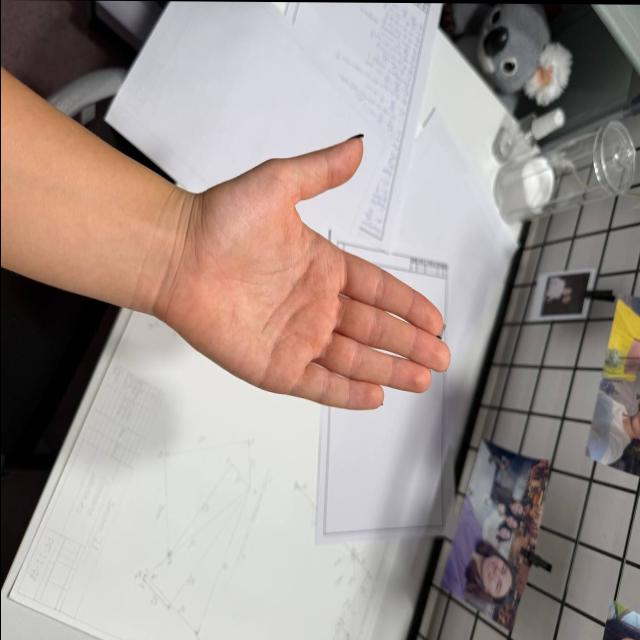v: (173, 123, 445, 419)
